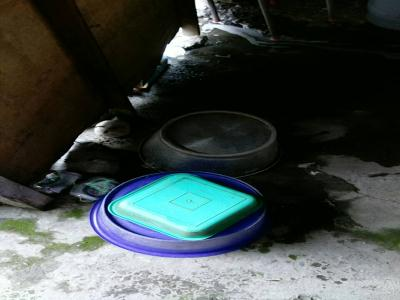bowl: (81, 166, 273, 260), (130, 105, 289, 181)
plate: (102, 171, 268, 241)
